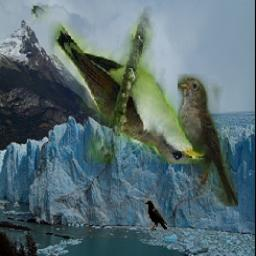Crow: (145, 198, 169, 231)
Cuckoo: (31, 7, 205, 165)
Sparrow: (178, 75, 238, 208)
